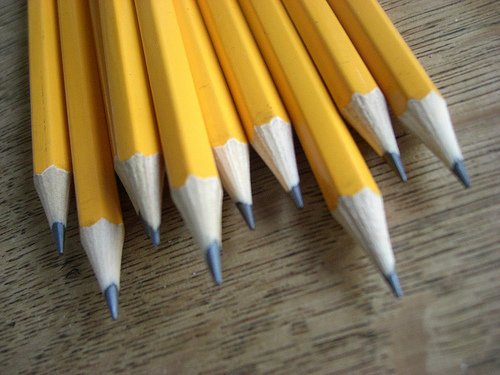pen_tip: (326, 179, 412, 309), (394, 72, 483, 191), (334, 76, 419, 185), (74, 211, 137, 323), (114, 142, 175, 251), (28, 159, 77, 256)
